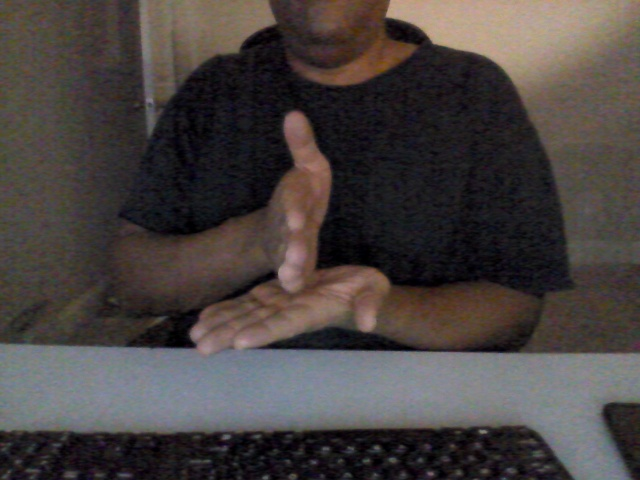stop: (181, 108, 390, 362)
